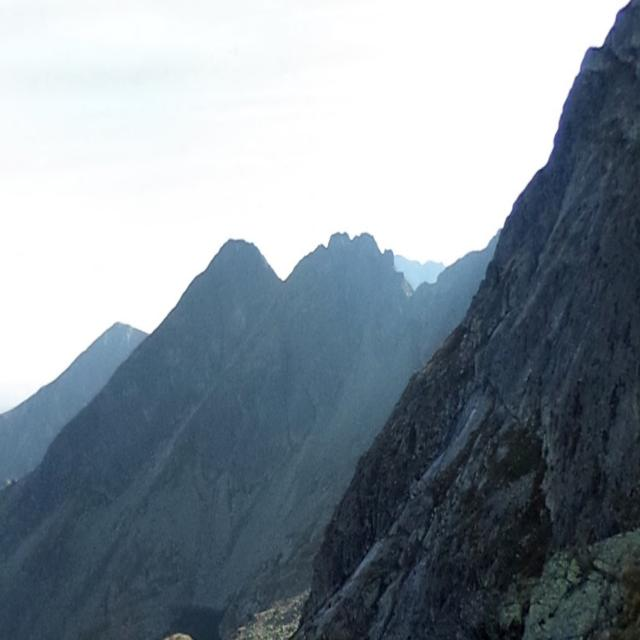Koscielec: (94, 129, 379, 355)
